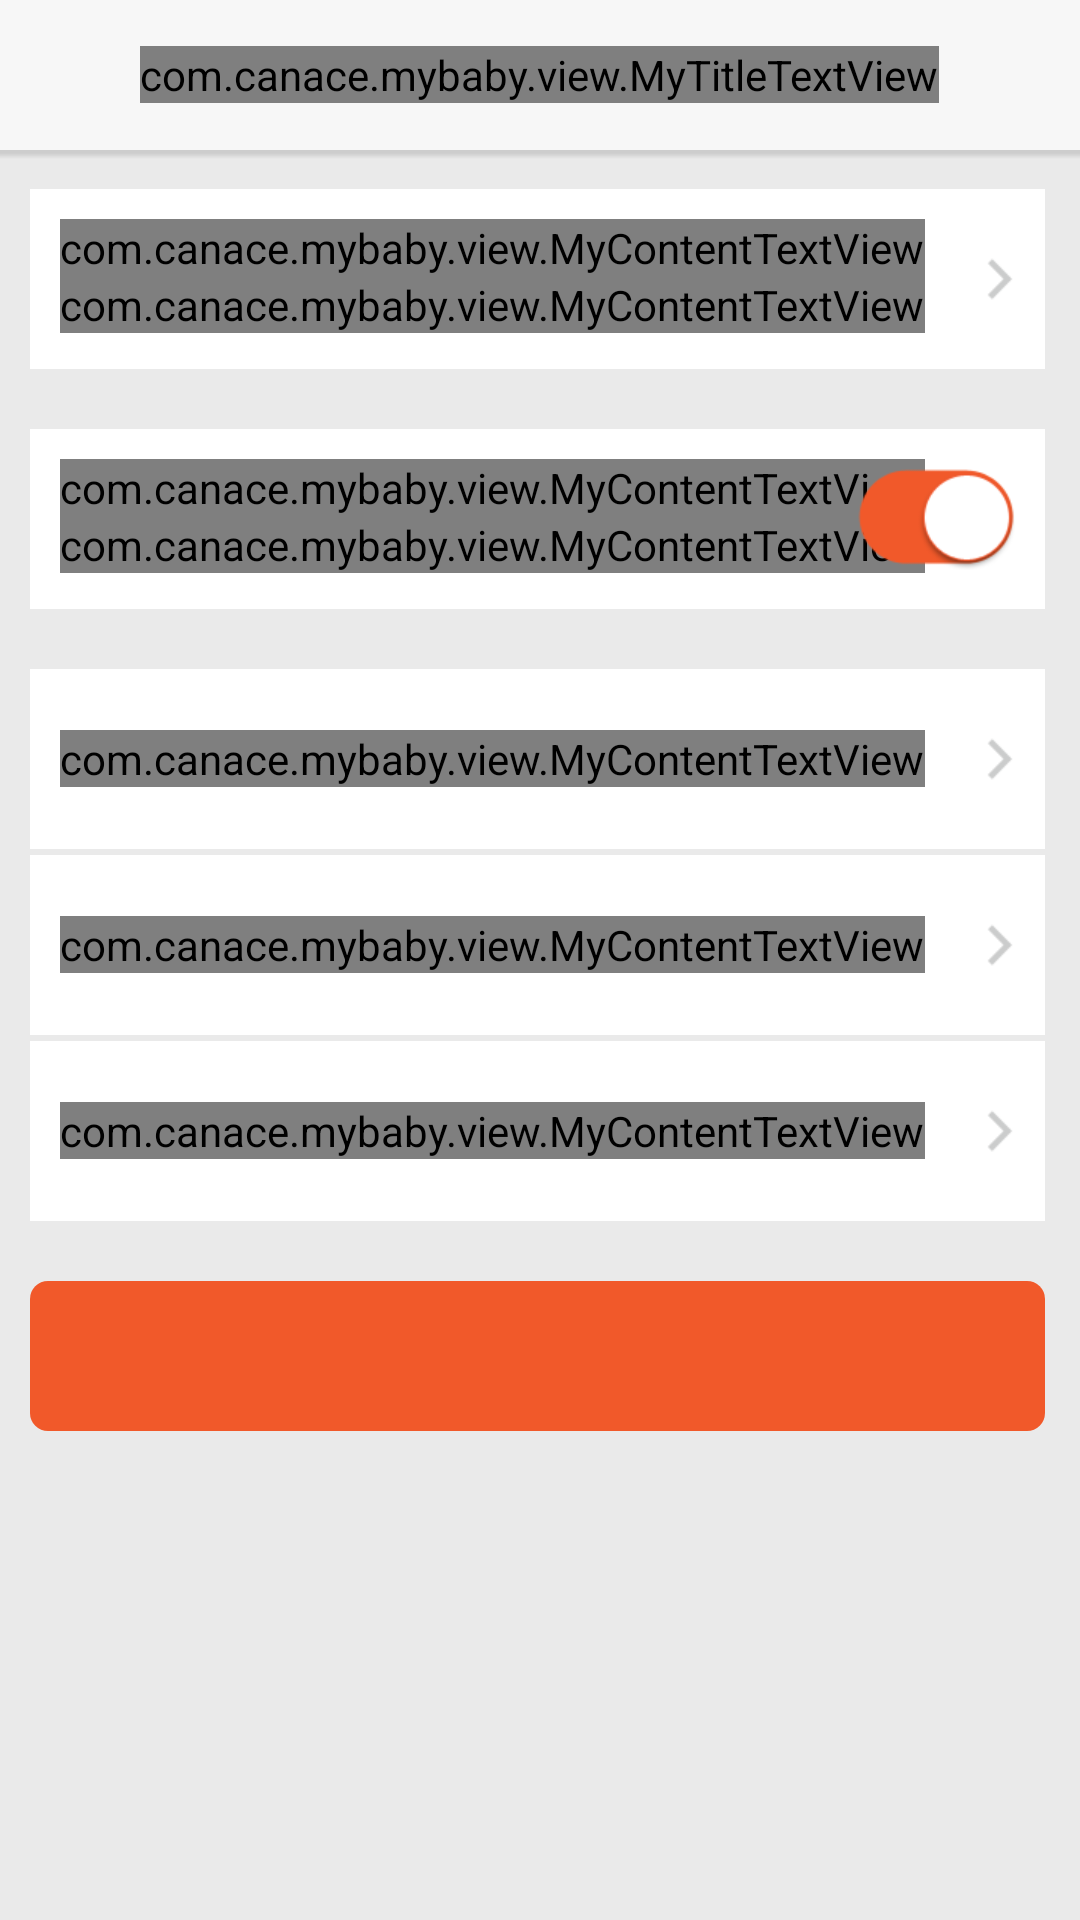

Screen size 1080 × 1920. Icon name, then its box in pixels as (x1, y1, x2, y2):
arrow right: (988, 260, 1011, 298), (988, 740, 1011, 778), (988, 926, 1011, 964), (988, 1112, 1011, 1150)
